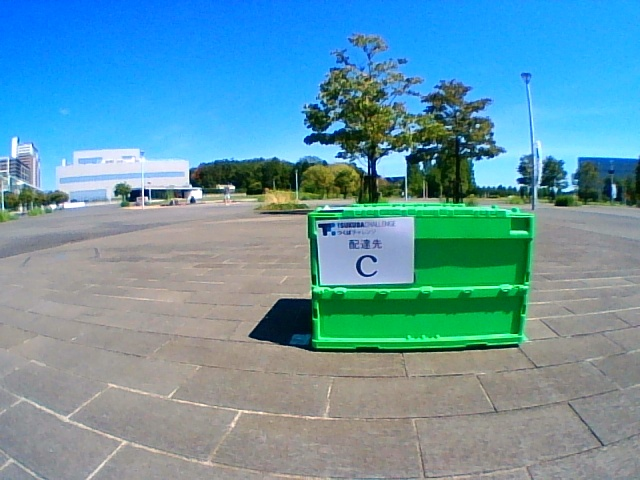green_box: (308, 203, 533, 352)
tag_c: (322, 220, 413, 284)
